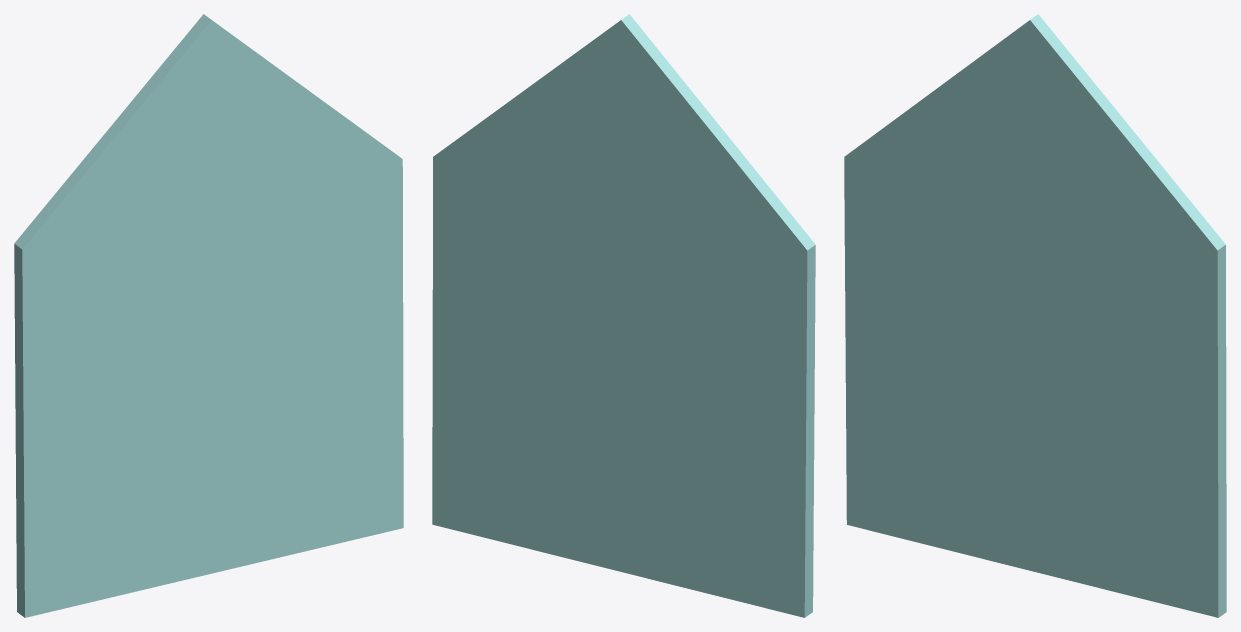
The model's file is SM_Puerta_Interior1.fbx.
The picture shows the model from 3 angles, left to right: view 1: azimuth 30°, elevation 25°; view 2: azimuth 150°, elevation 25°; view 3: azimuth 330°, elevation 25°; orthographic projection.
Parts seen in each view (by area): view 1: Puerta_Interior_1; view 2: Puerta_Interior_1; view 3: Puerta_Interior_1.
Part boxes in pixels (bbox=[...]): Puerta_Interior_1: bbox=[14, 14, 403, 617]; Puerta_Interior_1: bbox=[432, 14, 815, 617]; Puerta_Interior_1: bbox=[844, 14, 1226, 617].
Size of the model in its own units: 801 by 1118 by 39.48.
